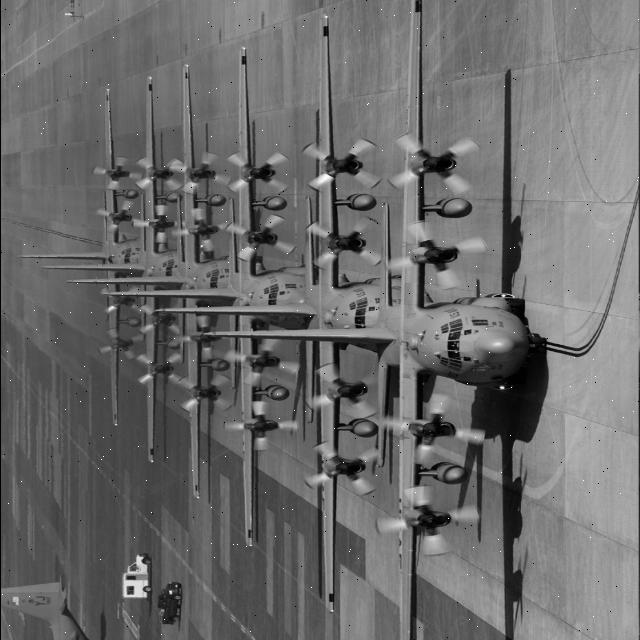C130: (11, 0, 564, 632)
